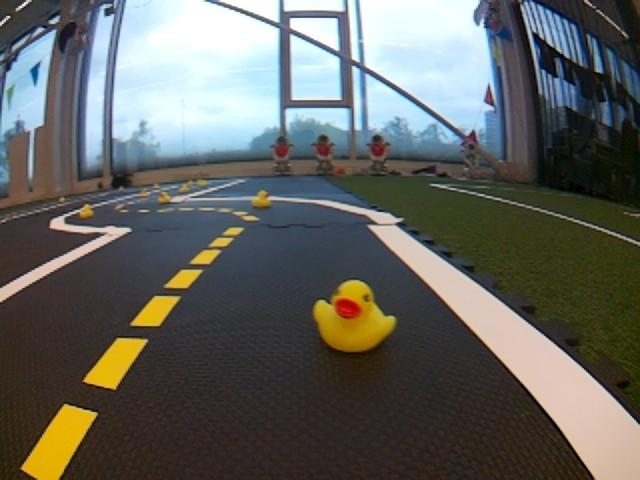Duckies: (311, 278, 396, 352), (250, 190, 273, 208), (79, 204, 94, 219), (157, 190, 171, 204), (139, 188, 149, 198), (179, 184, 189, 191), (152, 182, 160, 189), (186, 180, 194, 186), (58, 196, 66, 202), (199, 181, 207, 186), (118, 186, 124, 192)
